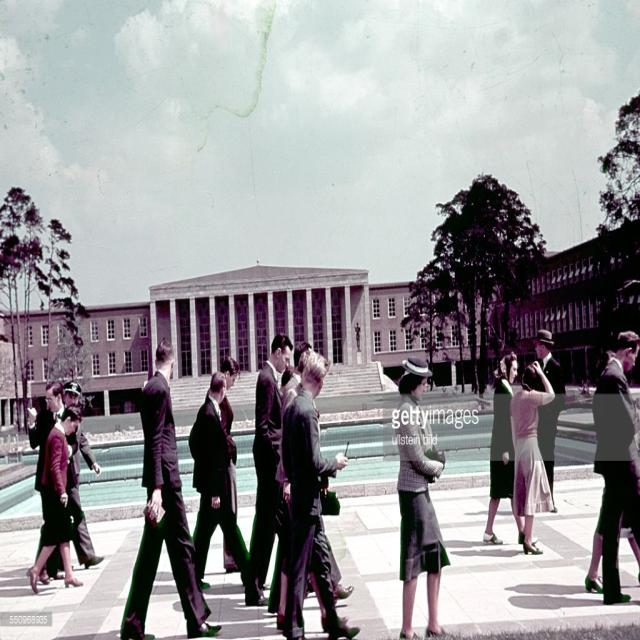body: (120, 336, 222, 639), (281, 350, 361, 639), (275, 348, 350, 634), (393, 355, 457, 639), (280, 363, 344, 591), (584, 348, 640, 595), (192, 370, 249, 590), (595, 328, 639, 606), (248, 332, 295, 586), (24, 401, 85, 594), (482, 350, 540, 547), (27, 378, 79, 586), (508, 359, 556, 556), (204, 354, 244, 574), (62, 378, 106, 570), (527, 329, 567, 513), (282, 340, 312, 407), (112, 394, 136, 413)
